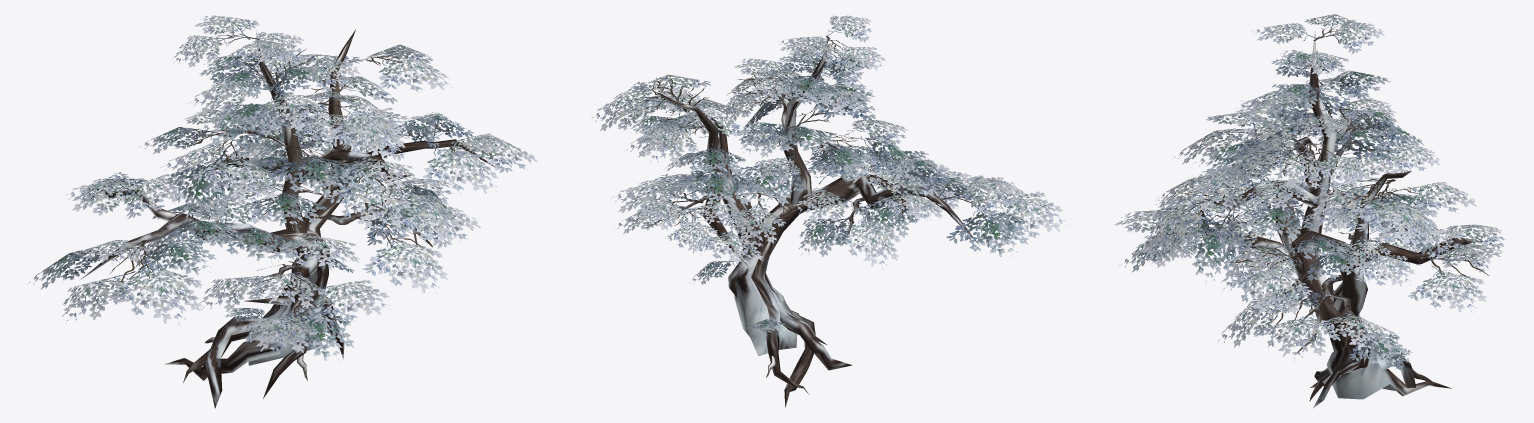
The model's file is environment_Tree_xue_004B.FBX.
3 renders of one model, left to right at view 1: azimuth 30°, elevation 25°; view 2: azimuth 150°, elevation 25°; view 3: azimuth 270°, elevation 25°, orthographic. The views are drawn at different scales.
Parts seen in each view (by area): view 1: environment_Tree_xue_004B_02, environment_Tree_xue_004B_01; view 2: environment_Tree_xue_004B_02, environment_Tree_xue_004B_01; view 3: environment_Tree_xue_004B_02, environment_Tree_xue_004B_01.
Boxes of the visible parts, x1,y1,x2,y2 form: environment_Tree_xue_004B_02: (27, 15, 537, 362); environment_Tree_xue_004B_01: (80, 29, 499, 408); environment_Tree_xue_004B_02: (592, 15, 1069, 334); environment_Tree_xue_004B_01: (655, 29, 979, 407); environment_Tree_xue_004B_02: (1114, 14, 1504, 369); environment_Tree_xue_004B_01: (1198, 31, 1479, 408).
Bounding box in the file's own units: 756 × 542 × 539.
Materials: 2 (2 with a texture image).
